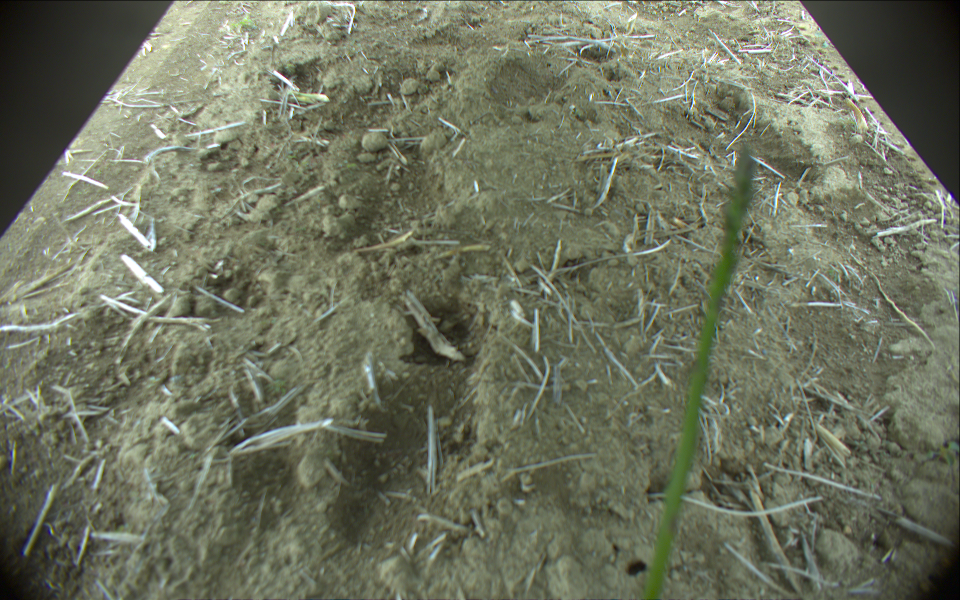aspa: (638, 142, 756, 598)
